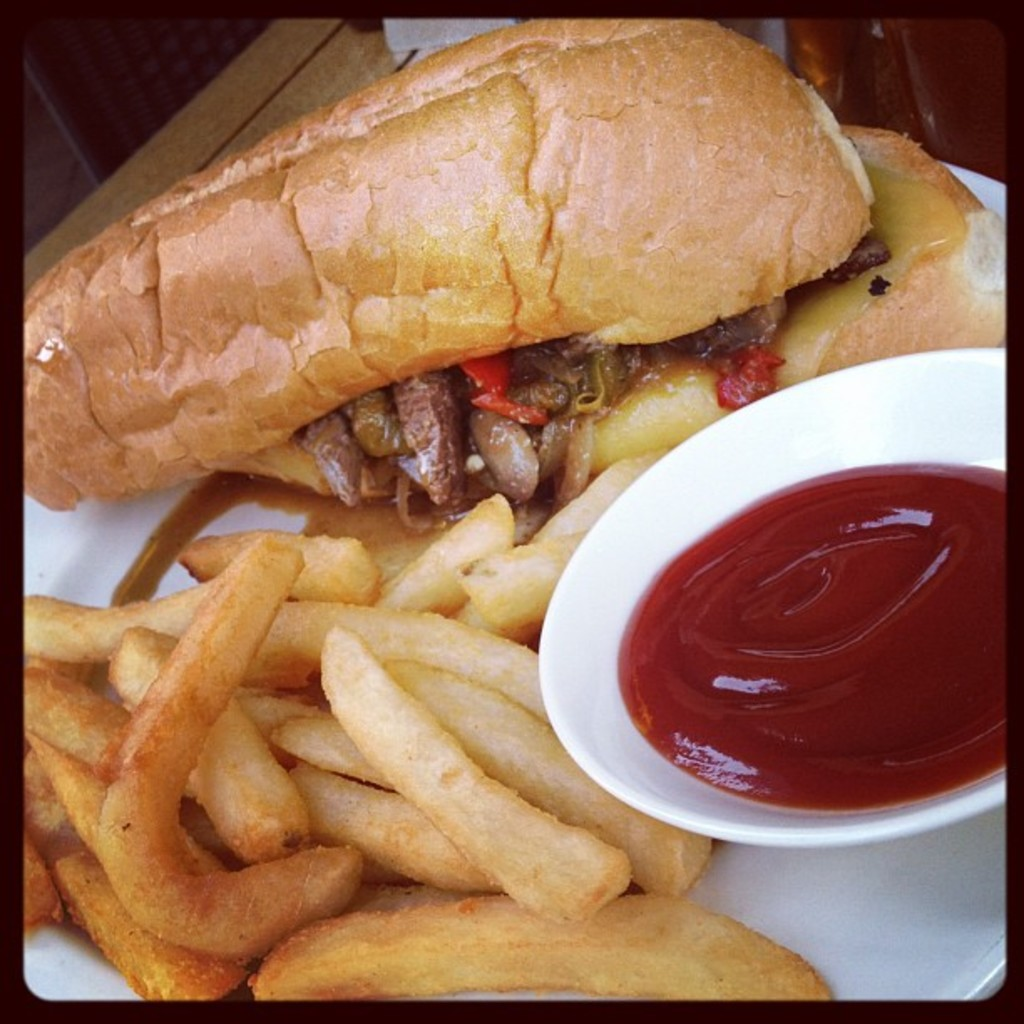French fries: (110, 532, 371, 973), (316, 620, 607, 931), (247, 883, 824, 1005), (1, 756, 256, 1003), (112, 625, 304, 861), (461, 461, 642, 642), (279, 756, 512, 890), (13, 567, 227, 659), (174, 520, 381, 604), (371, 495, 510, 617), (16, 660, 143, 766), (463, 530, 588, 629), (20, 722, 105, 843), (256, 709, 393, 778), (18, 834, 78, 936)
